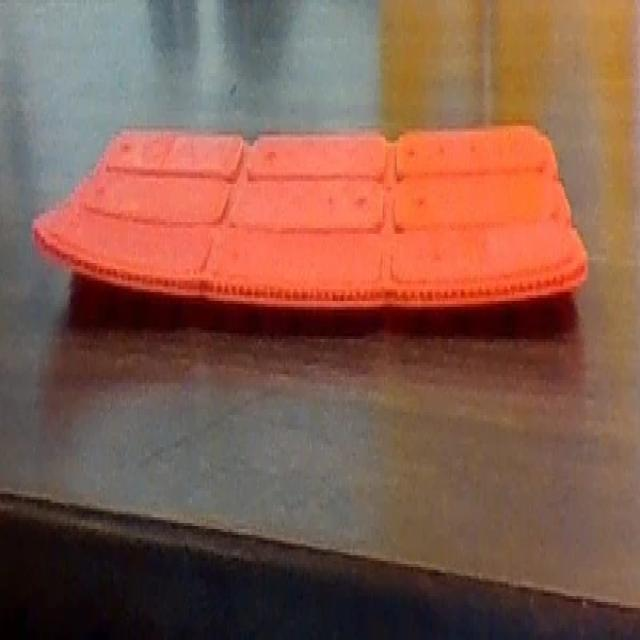Warping: (14, 206, 142, 324), (475, 254, 593, 344)
